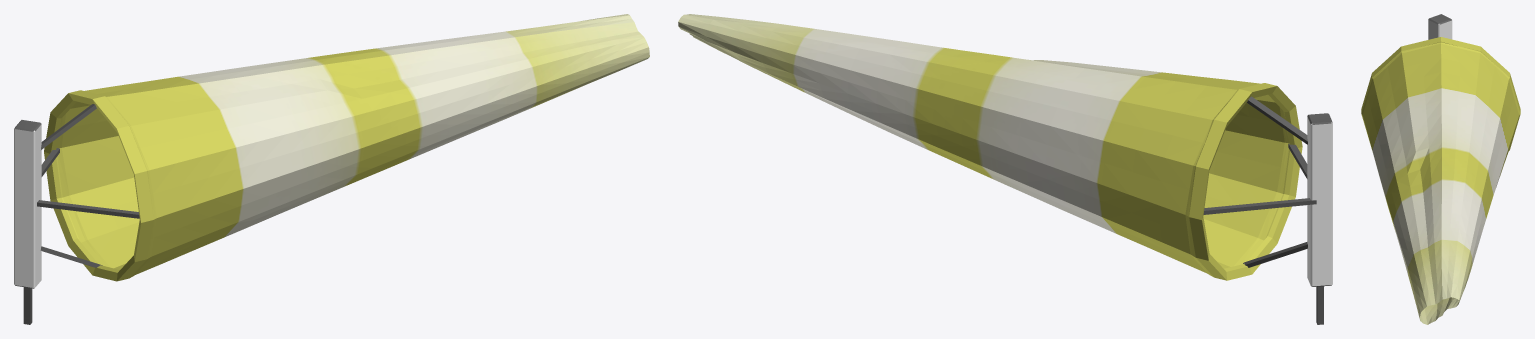
3 views of the same model, side by side, from view 1: azimuth 30°, elevation 25°; view 2: azimuth 150°, elevation 25°; view 3: azimuth 270°, elevation 25° (orthographic). The views are drawn at different scales.
Parts seen in each view (by area): view 1: WS-6.obj; view 2: WS-6.obj; view 3: WS-6.obj.
Boxes of the visible parts, <box> form: WS-6.obj: <box>14,14,649,324</box>; WS-6.obj: <box>678,14,1332,324</box>; WS-6.obj: <box>1361,14,1520,324</box>.
Size of the model in its own units: 5.32 by 1.7 by 1.44.
